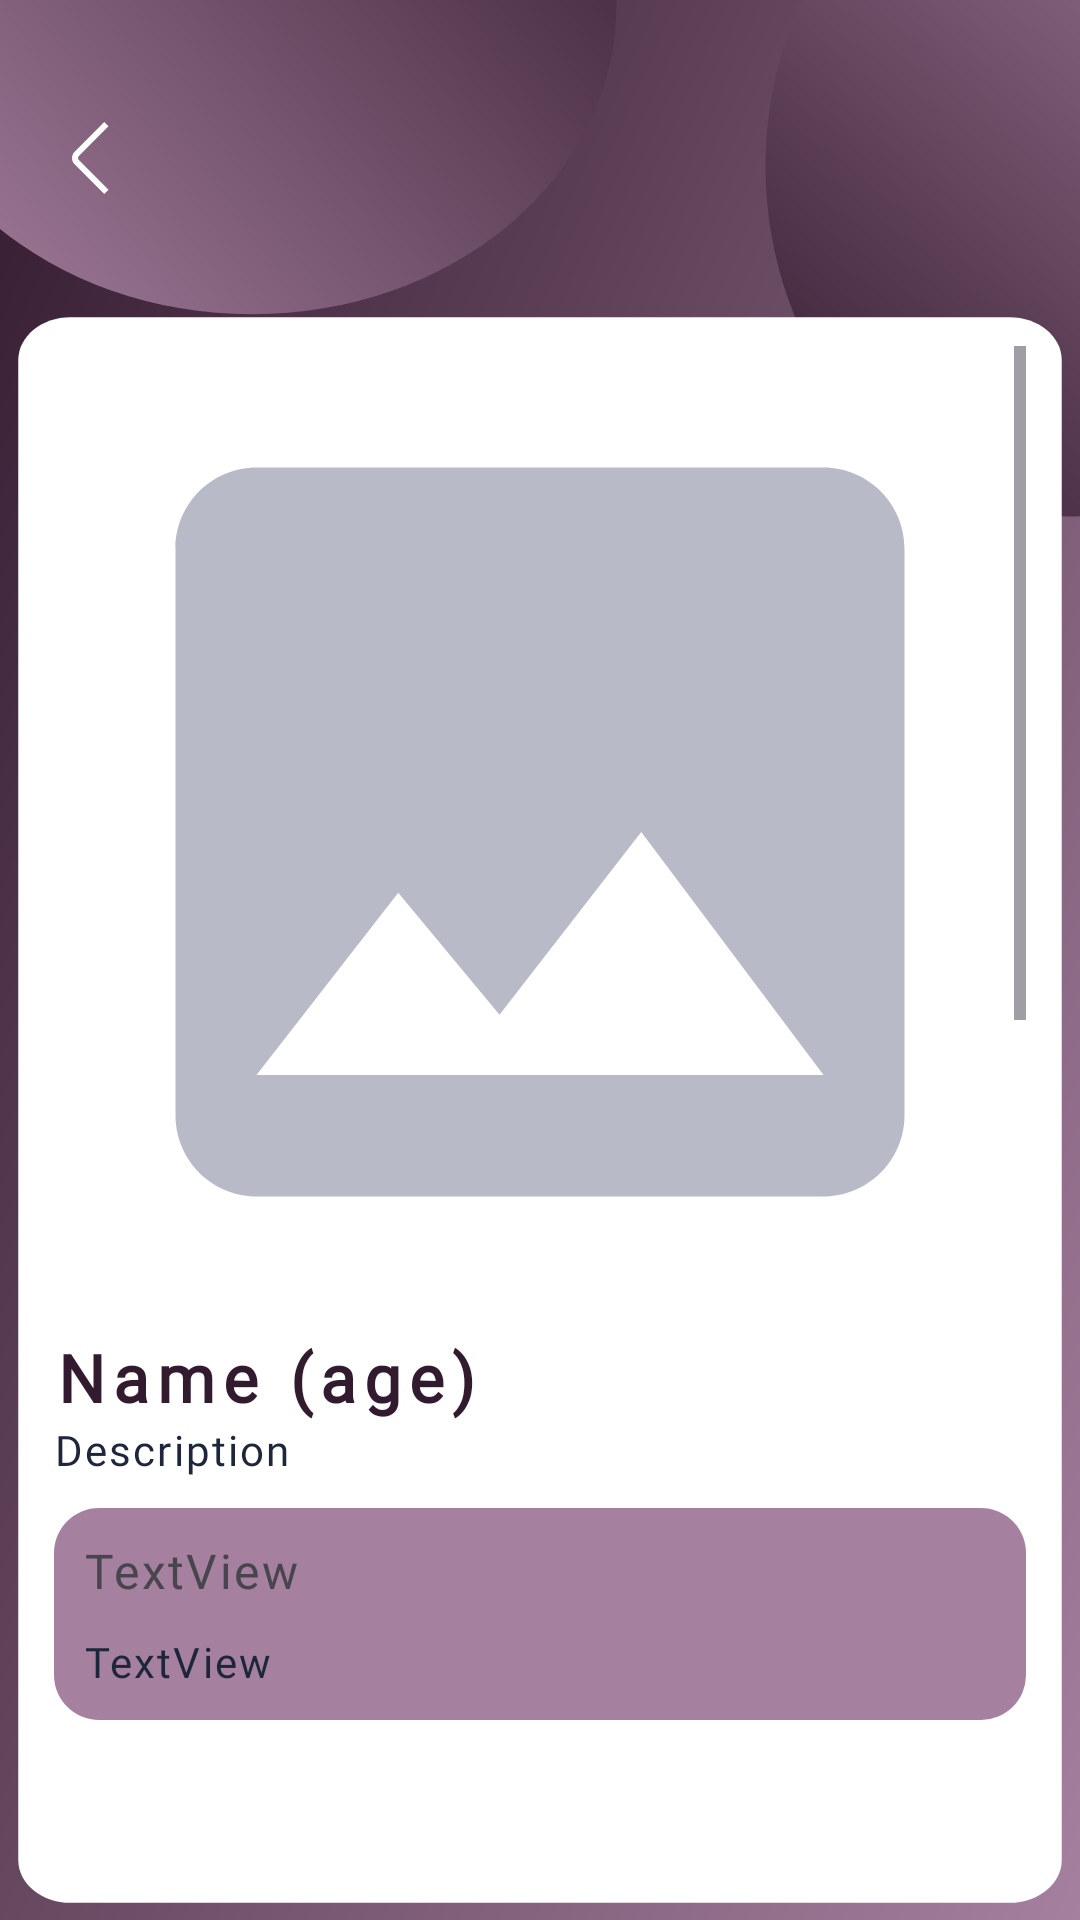

Icon click points for this 1080 × 1920 phone screenshot, format point (x, y):
back arrow: point (90, 158)
